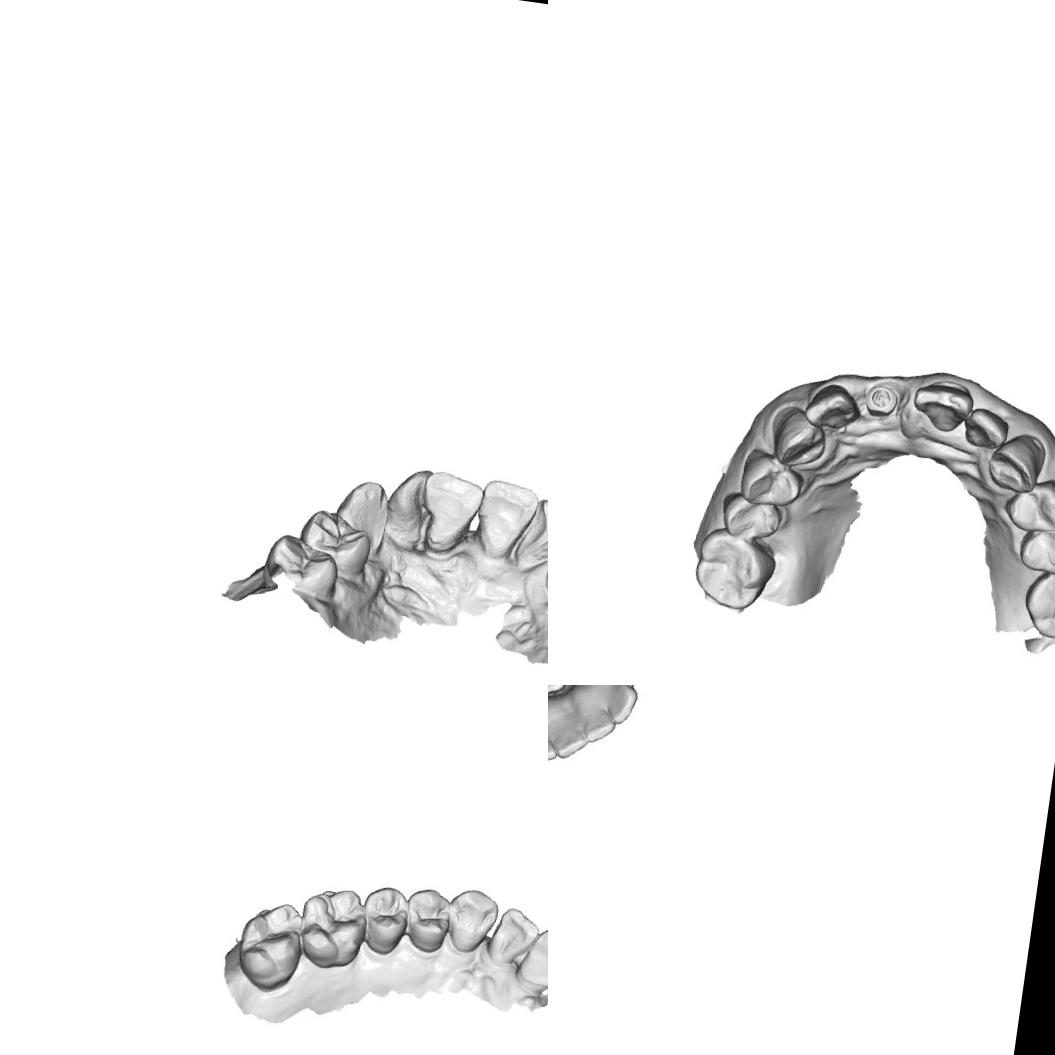canine: (329, 473, 396, 558), (982, 429, 1049, 497), (442, 884, 502, 956), (768, 406, 834, 471)
implant: (861, 378, 902, 422)
incisor: (416, 464, 489, 562), (472, 476, 542, 566), (378, 460, 440, 552), (906, 374, 978, 438), (485, 904, 542, 971), (506, 492, 548, 579), (799, 378, 860, 433), (548, 691, 597, 758), (512, 924, 548, 1001), (960, 402, 1010, 456), (574, 691, 622, 744), (592, 685, 639, 721), (548, 708, 558, 760)
molar: (689, 524, 782, 618), (232, 896, 308, 994), (294, 882, 371, 973), (1016, 563, 1055, 645)
premolar: (296, 505, 376, 578), (257, 530, 338, 602), (734, 446, 808, 512), (717, 486, 788, 546), (357, 883, 412, 958), (401, 884, 454, 956), (1001, 473, 1055, 538), (1014, 520, 1055, 581)
